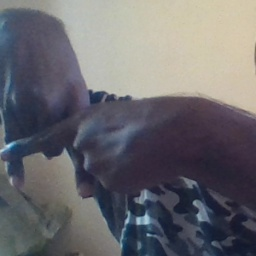H: (1, 85, 119, 208)
